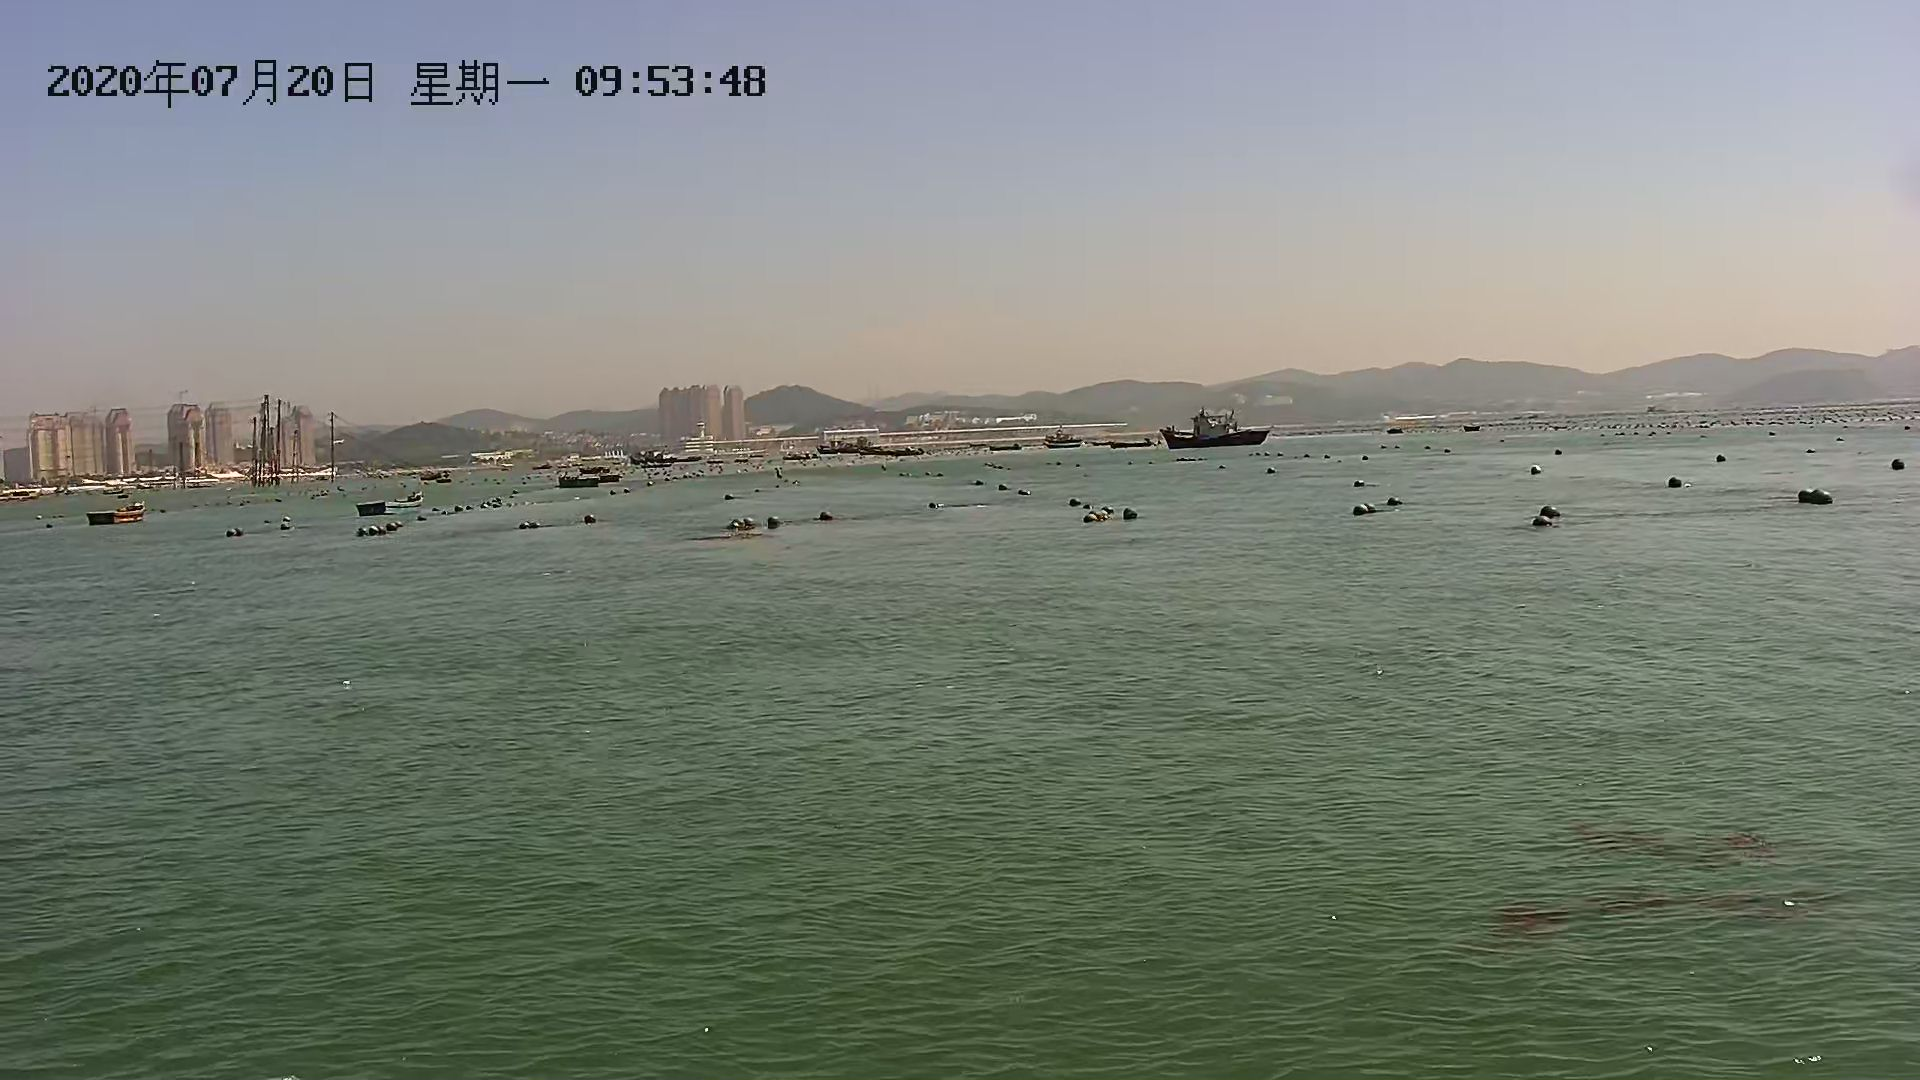ball: (1528, 505, 1565, 531), (1800, 487, 1836, 510), (225, 517, 255, 545), (761, 514, 790, 531), (518, 516, 549, 531), (1349, 502, 1373, 520), (1120, 504, 1139, 524), (371, 524, 392, 541), (816, 508, 837, 521)
boat: (84, 496, 158, 531), (553, 458, 625, 492), (640, 444, 716, 472), (353, 489, 431, 516), (1043, 433, 1104, 458), (1110, 433, 1158, 456), (992, 440, 1025, 459)
mast: (323, 404, 342, 488)
ship: (1163, 409, 1298, 451)
